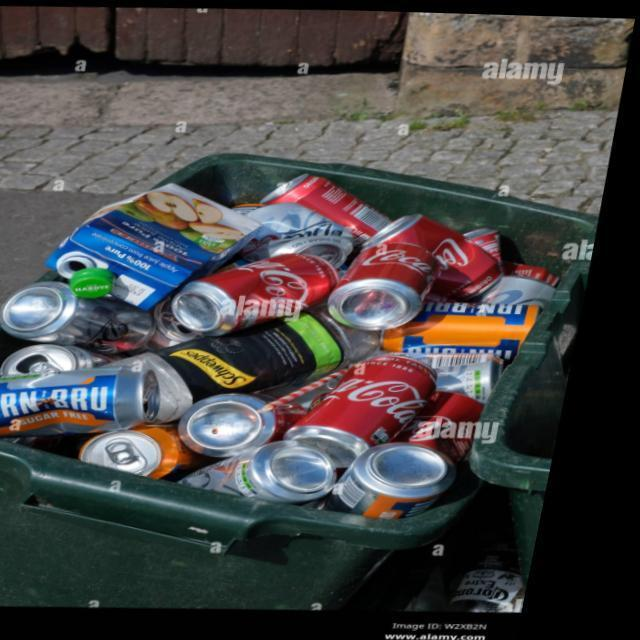Garbage: (0, 173, 570, 514)
Plastic_Straw: (275, 366, 364, 410)
Plastic_bottle: (119, 303, 394, 422)
Tetrapack: (56, 182, 269, 307)
can: (302, 352, 451, 464), (183, 251, 349, 333), (0, 365, 175, 436), (372, 211, 513, 297), (12, 281, 167, 352), (346, 438, 475, 515), (198, 438, 355, 500), (340, 239, 449, 327), (268, 171, 401, 241), (395, 298, 552, 356), (195, 391, 321, 455), (97, 423, 238, 476), (251, 200, 363, 264), (97, 423, 232, 475), (408, 349, 518, 399), (486, 258, 570, 304), (14, 344, 125, 373), (166, 297, 215, 343)
